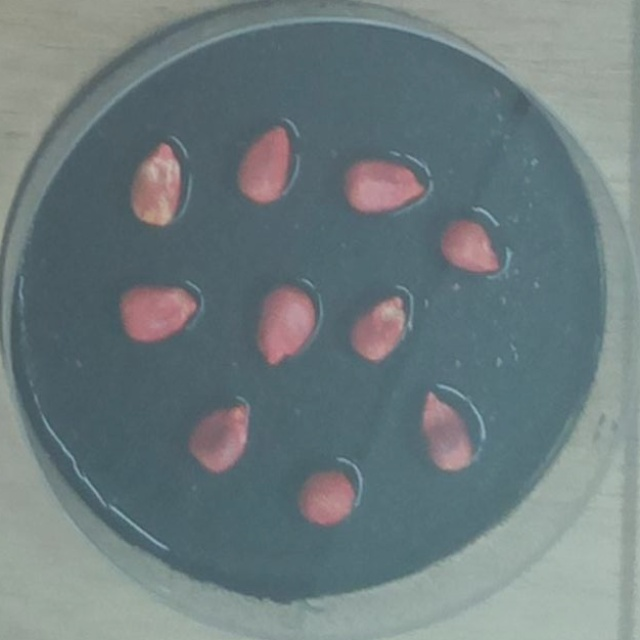Zea mays: (110, 270, 207, 350), (248, 275, 326, 374), (121, 126, 192, 234), (412, 378, 488, 478), (335, 148, 435, 221), (341, 281, 418, 369), (180, 394, 257, 480), (228, 114, 298, 208), (434, 207, 509, 282), (291, 460, 361, 533)
